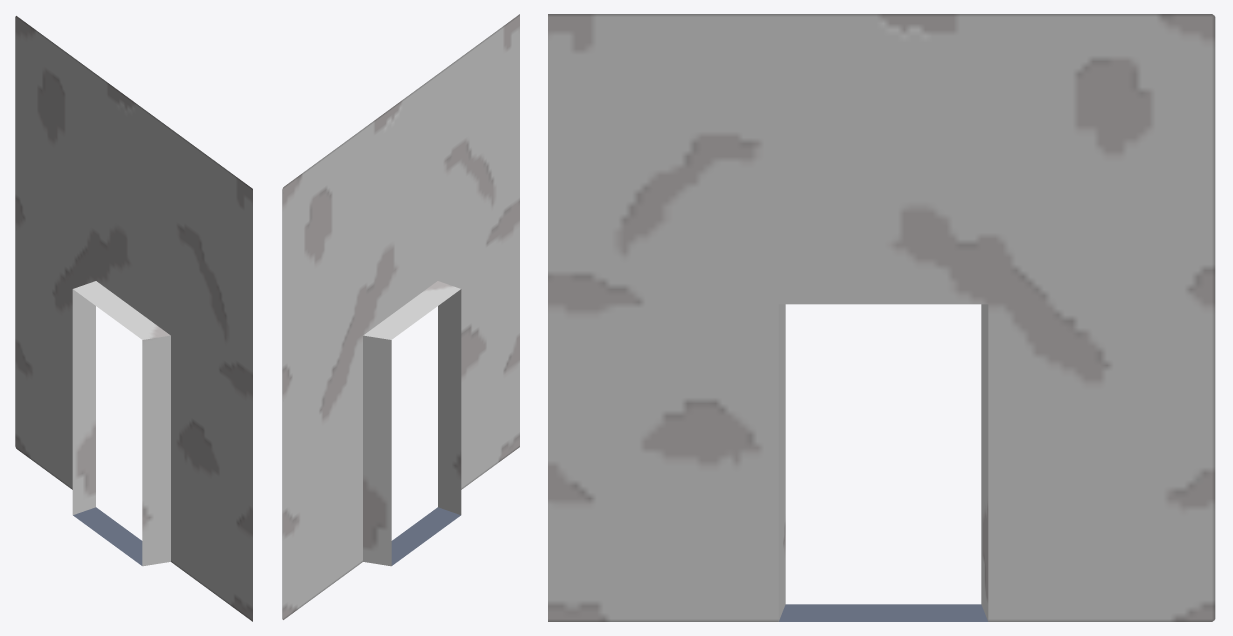
File: ParedPuertaBlanca1.fbx
3 renders of one model, left to right at view 1: azimuth 30°, elevation 25°; view 2: azimuth 150°, elevation 25°; view 3: azimuth 270°, elevation 25°, orthographic. The views are drawn at different scales.
Parts seen in each view (by area): view 1: Pared + Puerta 1; view 2: Pared + Puerta 1; view 3: Pared + Puerta 1.
Boxes of the visible parts, <box> form: Pared + Puerta 1: <box>15,16,252,621</box>; Pared + Puerta 1: <box>282,14,519,619</box>; Pared + Puerta 1: <box>548,14,1215,621</box>.
Size of the model in its own units: 18.75 by 300 by 300.
Materials: 1 (1 with a texture image).
